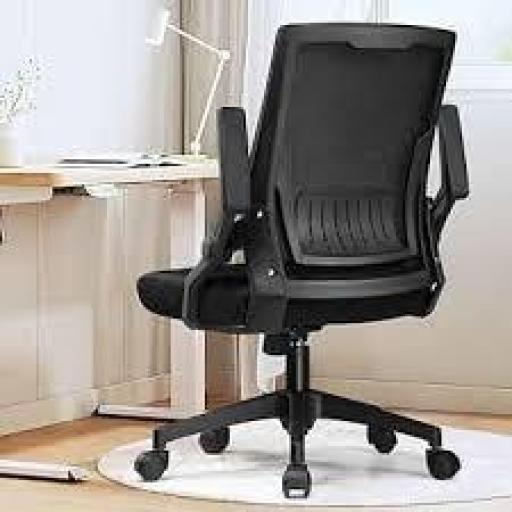chair: (126, 16, 477, 507)
